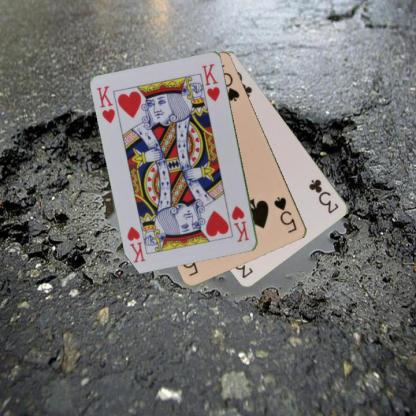3c: (306, 176, 340, 215)
5s: (272, 194, 298, 235)
Kh: (94, 83, 117, 125), (229, 203, 251, 244)
